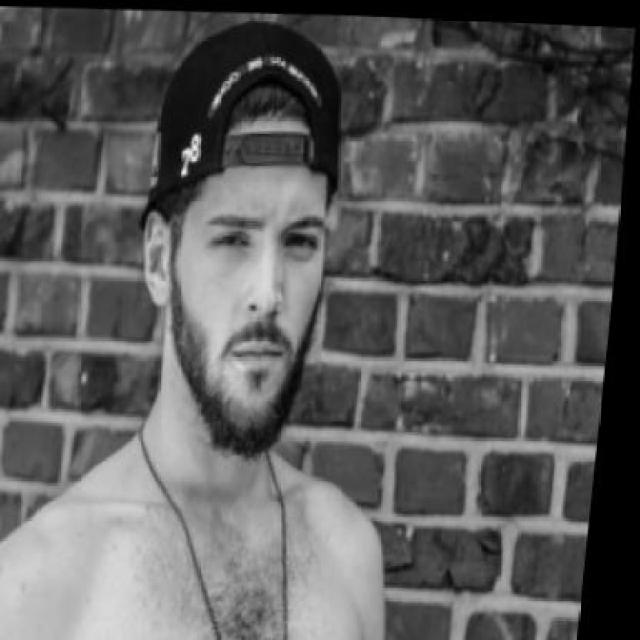hat: (132, 12, 358, 231)
